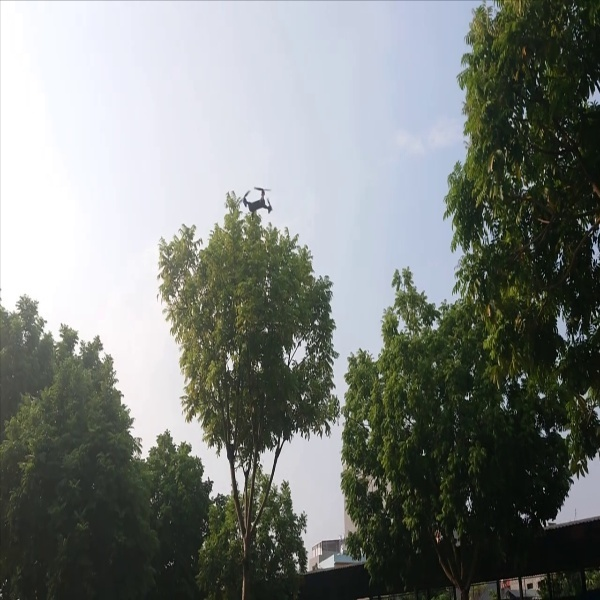drone: (239, 180, 275, 222)
